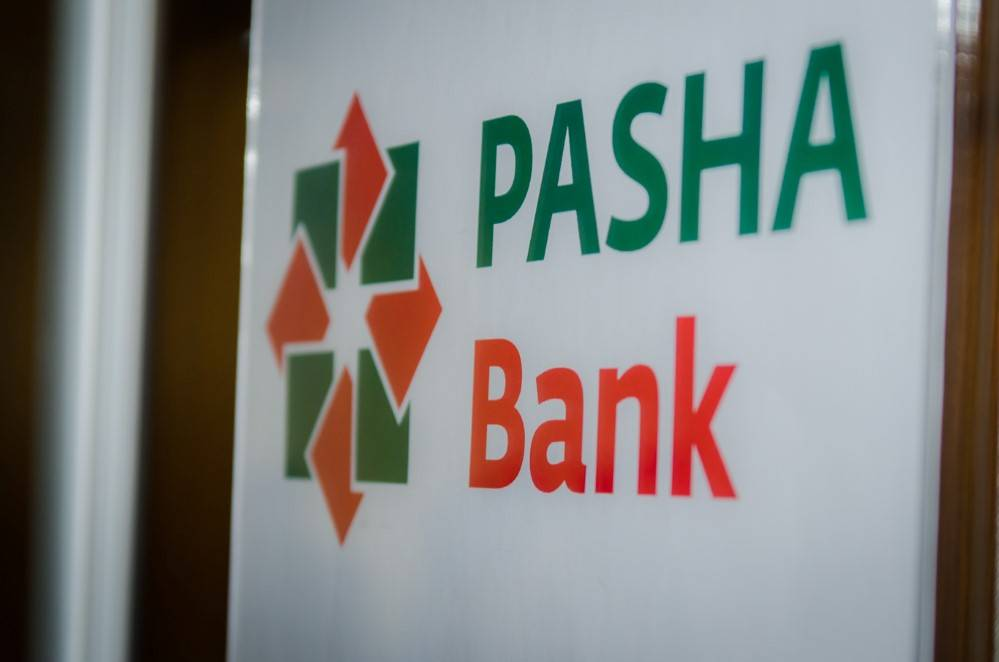Pasha Bank: (262, 93, 445, 547)
